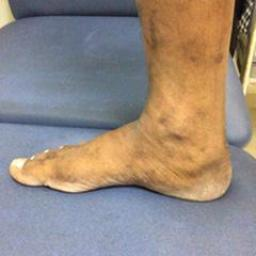Medial View -Right Foot-: (6, 79, 244, 212)
